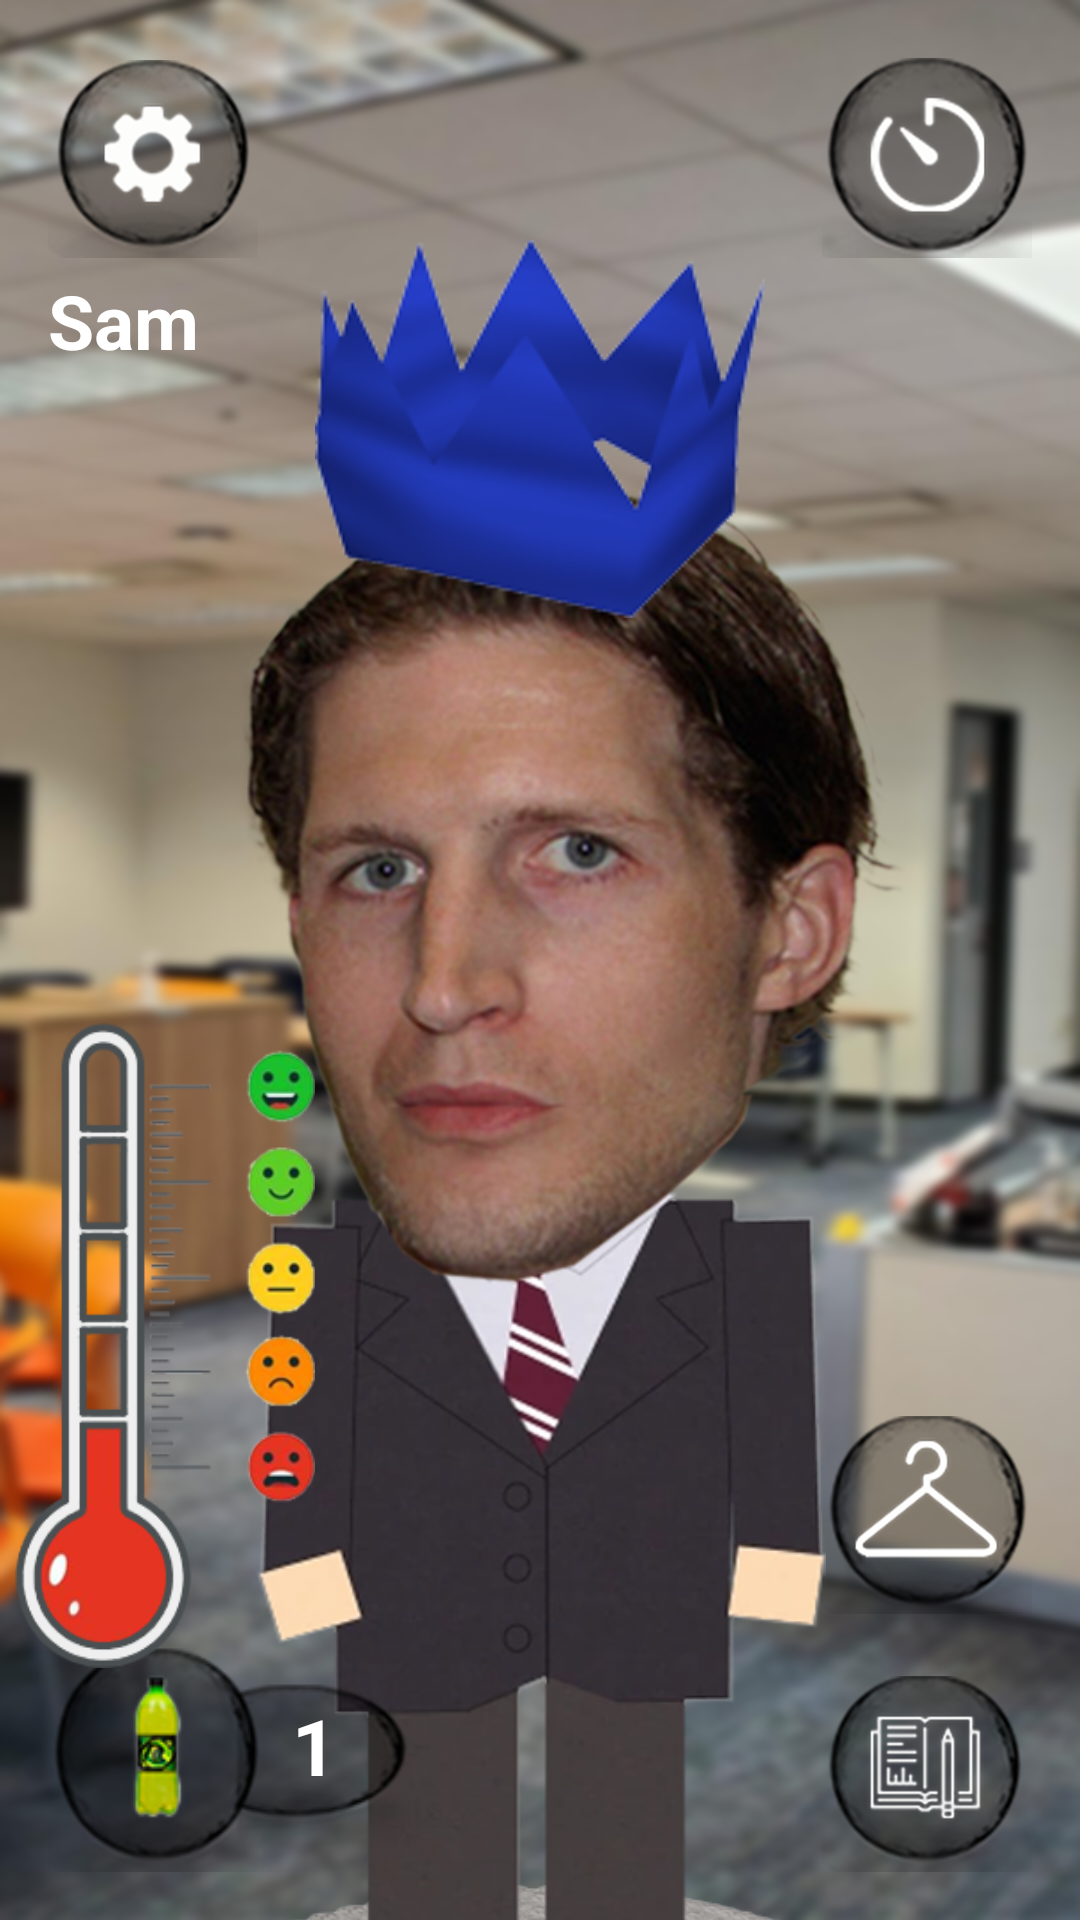

Where to tap for icons on this 1080*1920 app screen, as (x=x, y=y):
homework: (x=927, y=1767)
settings: (x=153, y=153)
timer: (x=927, y=158)
wardrobe: (x=927, y=1509)
